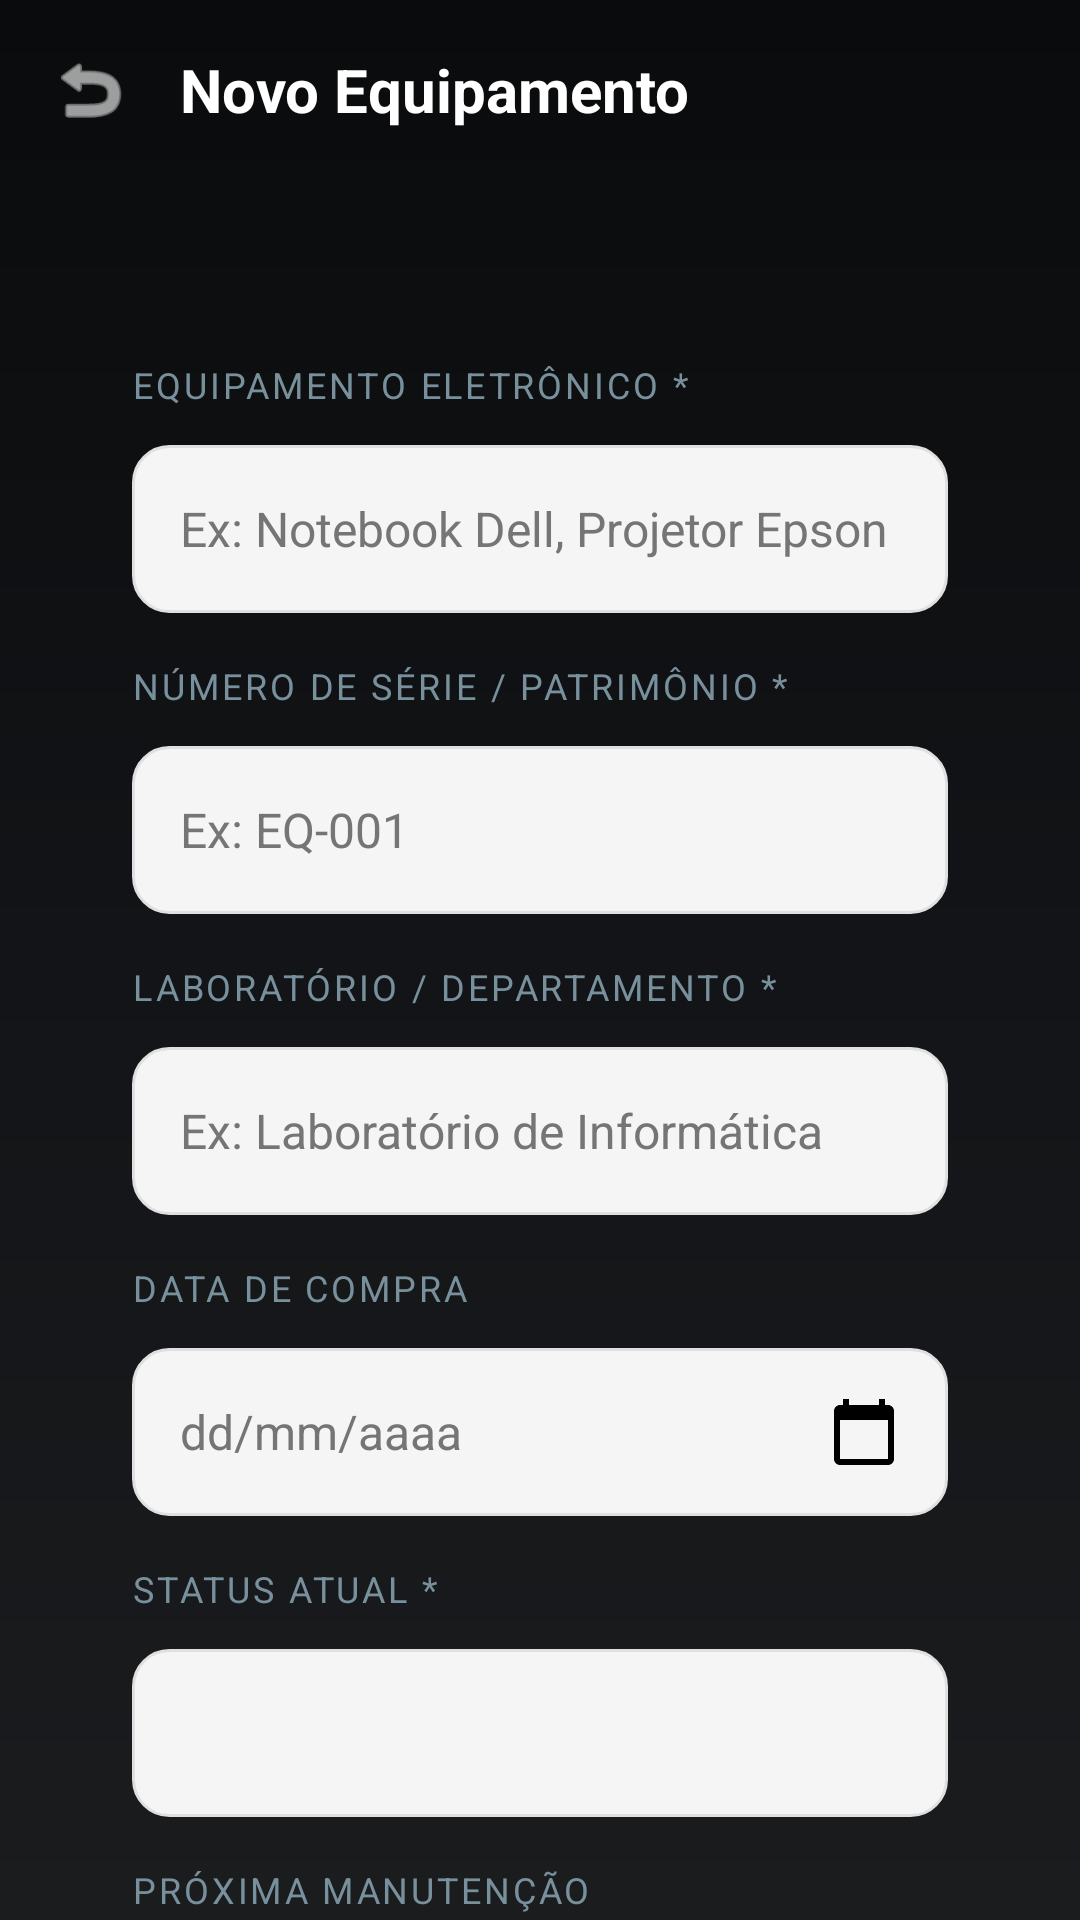

Icon bounding boxes for this 1080w x 1920h phone screenshot, format [x1,y1,x2,y2]:
revert: [61,63,122,118]
